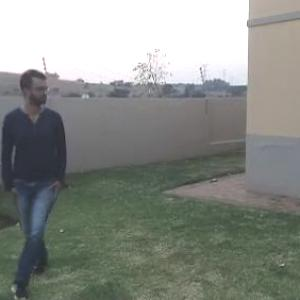follow: (14, 63, 75, 281)
